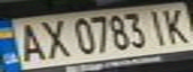0: (69, 15, 97, 56)
3: (124, 10, 151, 49)
7: (90, 12, 112, 53)
8: (109, 11, 130, 52)
A: (9, 19, 48, 63)
I: (142, 7, 172, 46)
K: (157, 4, 193, 45)
X: (33, 17, 72, 61)
